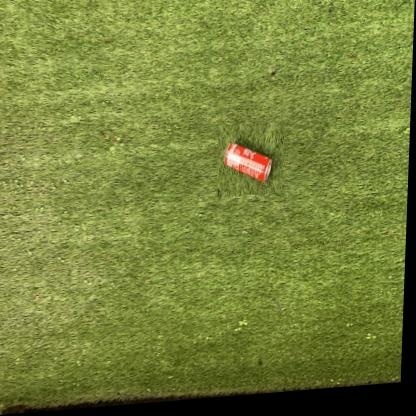trash: (224, 144, 271, 180)
